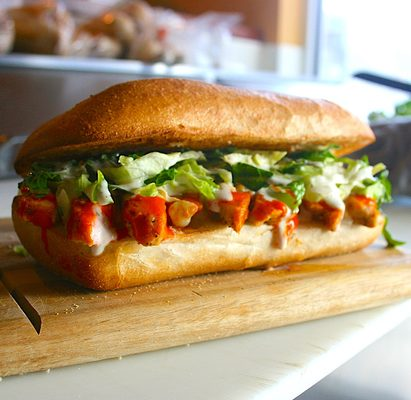soup: (8, 77, 383, 290)
